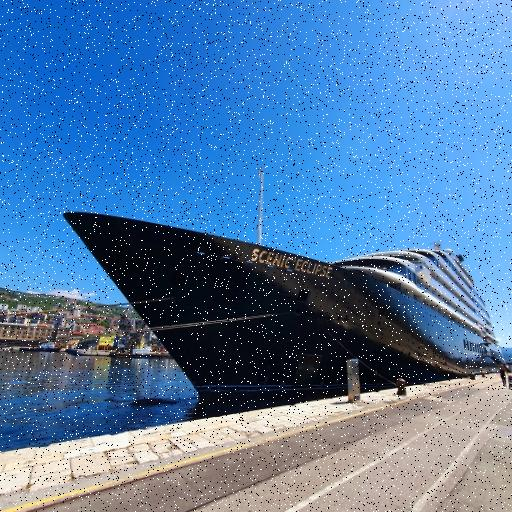cruises: (61, 178, 510, 394)
